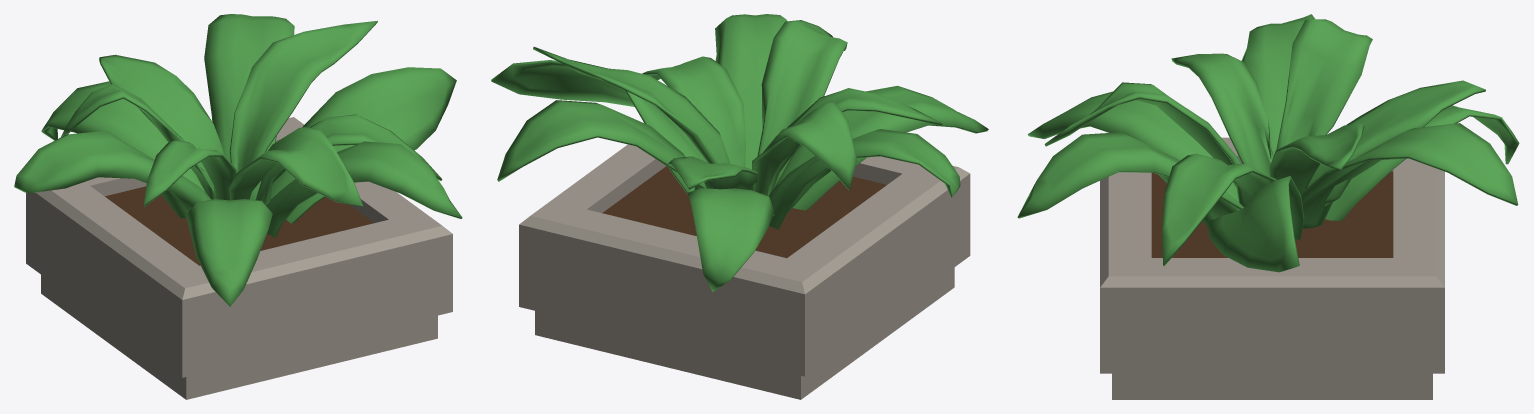
File: exporttest.dae
3 renders of one model, left to right at view 1: azimuth 30°, elevation 25°; view 2: azimuth 150°, elevation 25°; view 3: azimuth 270°, elevation 25°, orthographic. The views are drawn at different scales.
Parts seen in each view (by area): view 1: Plant; view 2: Plant; view 3: Plant.
Part boxes in pixels (x1,y1,x2,y2): Plant: (14, 14, 462, 399); Plant: (491, 14, 988, 399); Plant: (1017, 14, 1519, 399).
Bounding box in the file's own units: 3.09 × 2.76 × 1.58.
